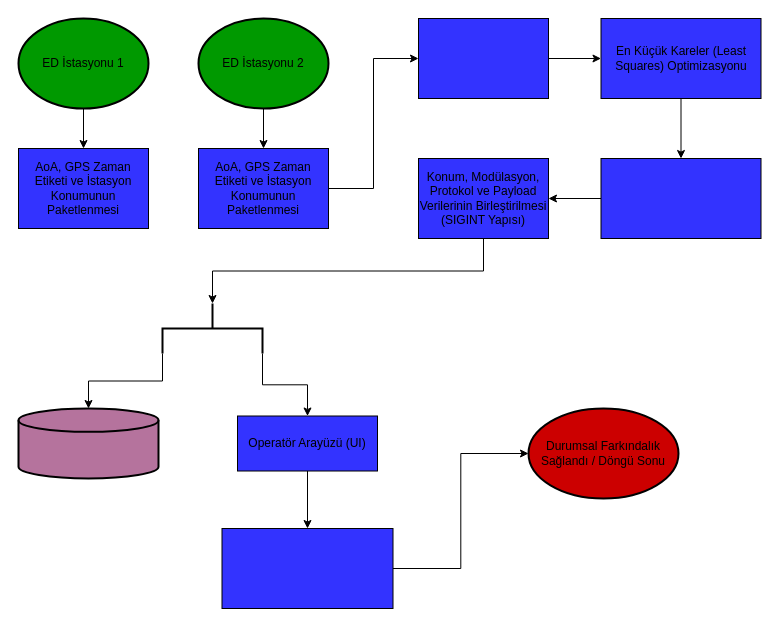
This 778x626 diagram has some shape labels left out. Here are the shapes that lost their labels. From the top down, the centre of each, then its label:
point 483,58: LOB (Kerteriz Hattı) Kesişim Matrisinin Oluşturulması"
point 680,198: Optimum Coğrafi Koordinatın (Enlem/Boylam) Kestirimi
point 88,443: Zaman Damgalı Loglama
point 307,568: Taktik Harita Üzerinde LOB Vektörlerinin ve Hedef Konumunun Dinamik Çizimi
